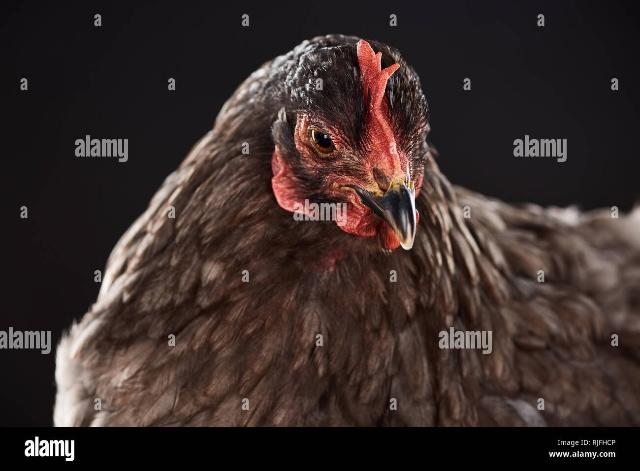Chicken: (55, 33, 640, 429)
